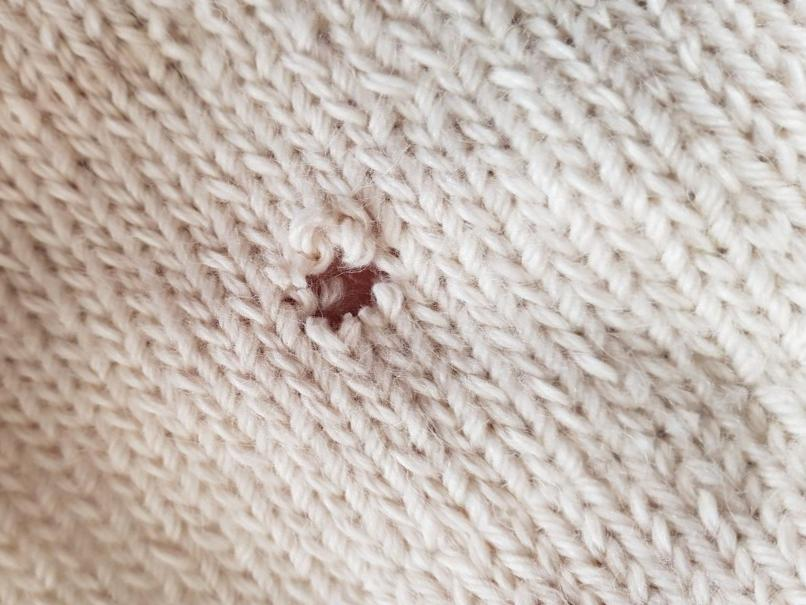hole: (279, 246, 398, 340)
